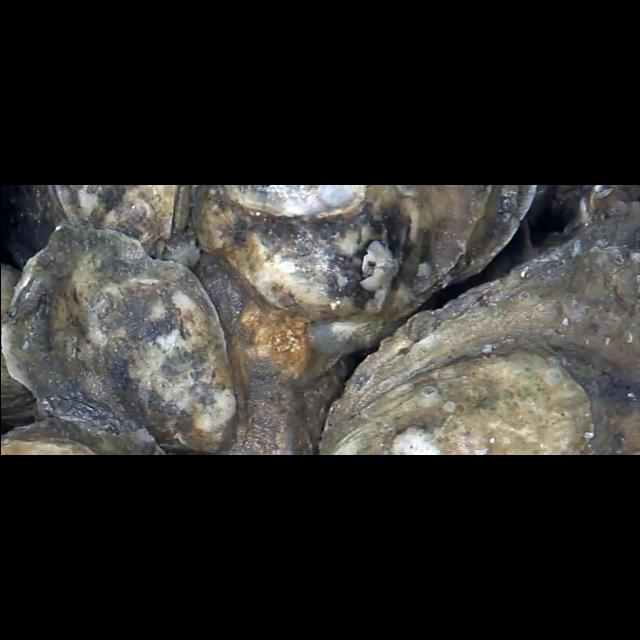Oyster-Closed: (318, 201, 640, 456), (0, 225, 239, 456), (189, 250, 439, 456), (192, 185, 540, 325), (48, 185, 193, 256), (0, 418, 166, 456), (0, 185, 60, 268), (0, 337, 37, 425), (0, 263, 20, 333)
